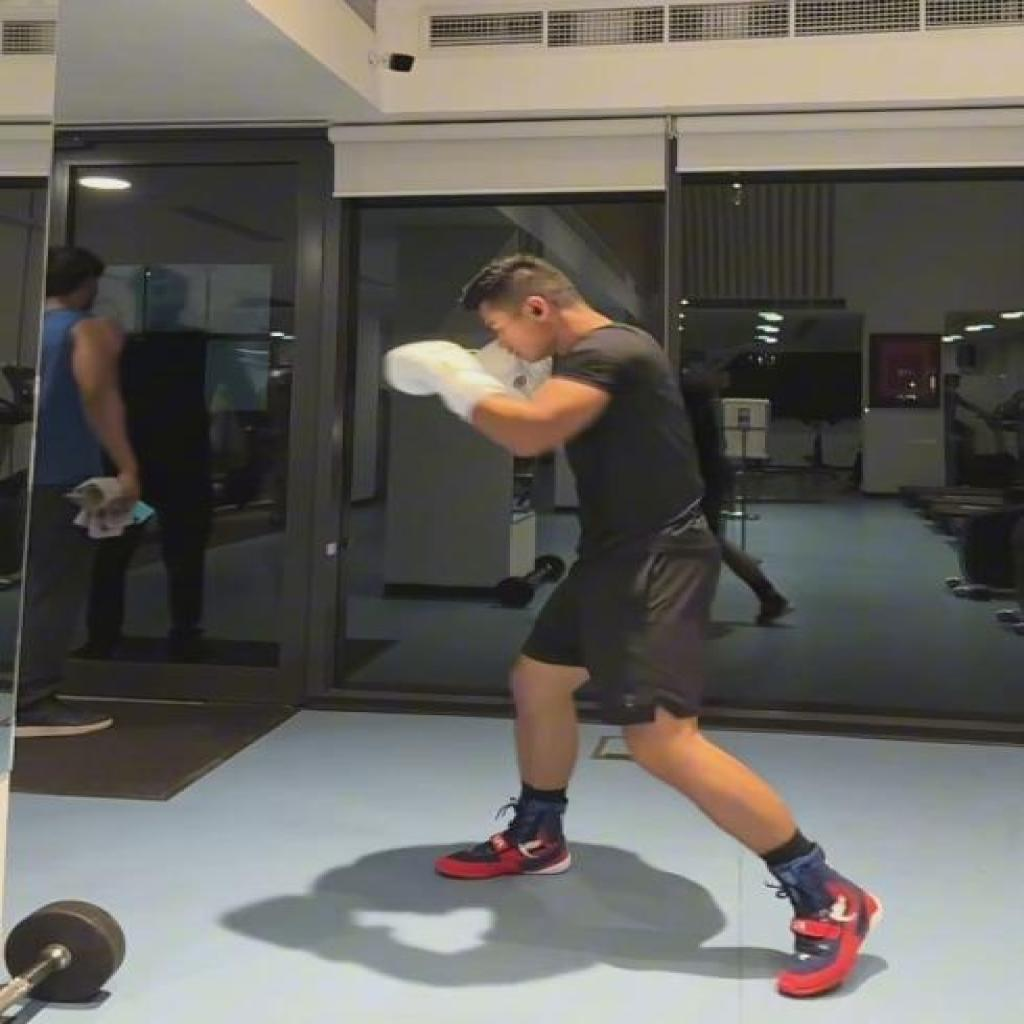cross: (364, 254, 886, 1005)
